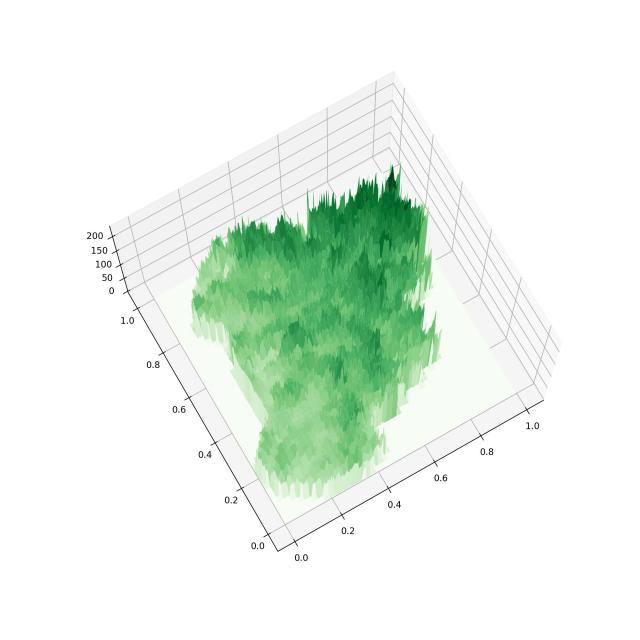spruce: (73, 35, 590, 584)
